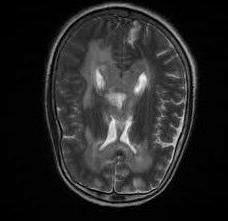Normal_Brain: (34, 1, 228, 221)
